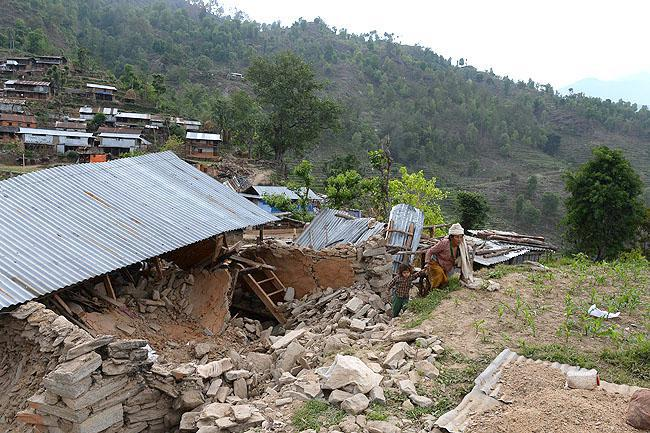destroyed: (0, 148, 435, 402)
